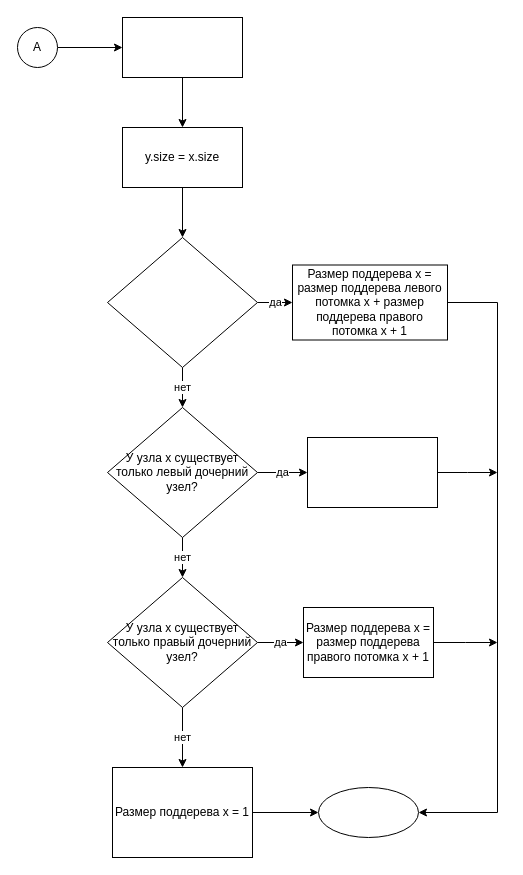
Some shapes in this 523 by 875 pixel diagram are drawn without their labels. The shapes that lost their labels are listed below. From the top down, each one's centre as x and y in pixels, then its label:
point (182, 47): Родительский узел х = y
point (182, 302): У узла х существуют и правый, и левый дочерние узлы?
point (372, 472): Размер поддерева х = размер поддерева левого потомка х + 1
point (368, 812): Конец
